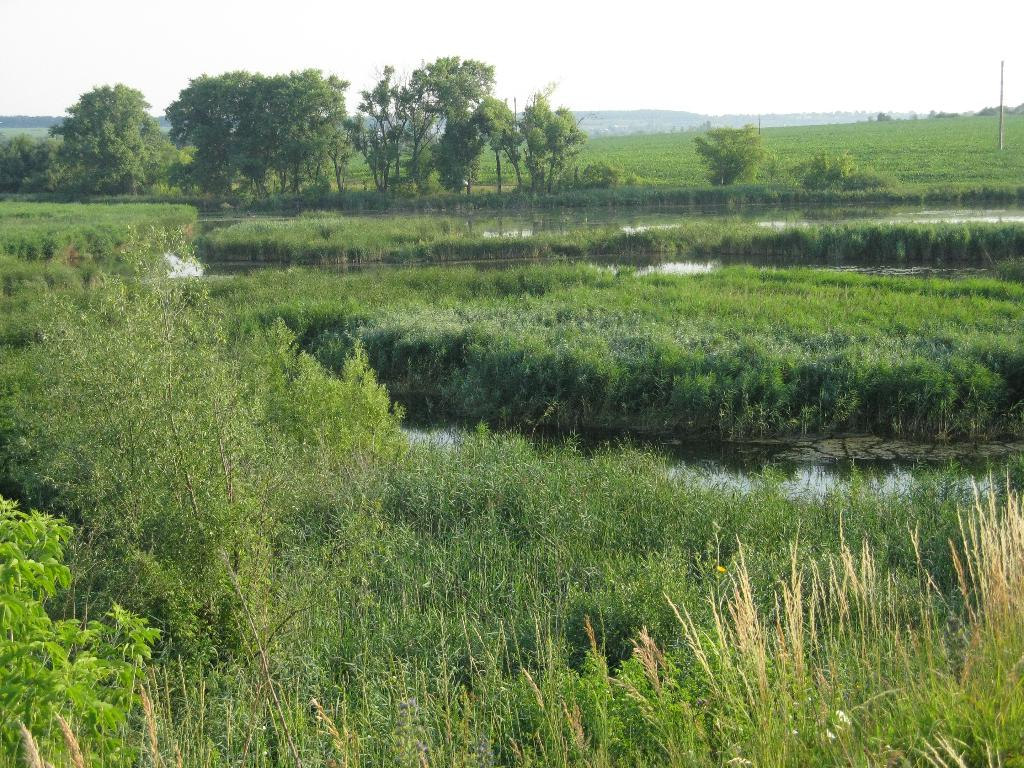Tree: (0, 55, 1024, 204)
